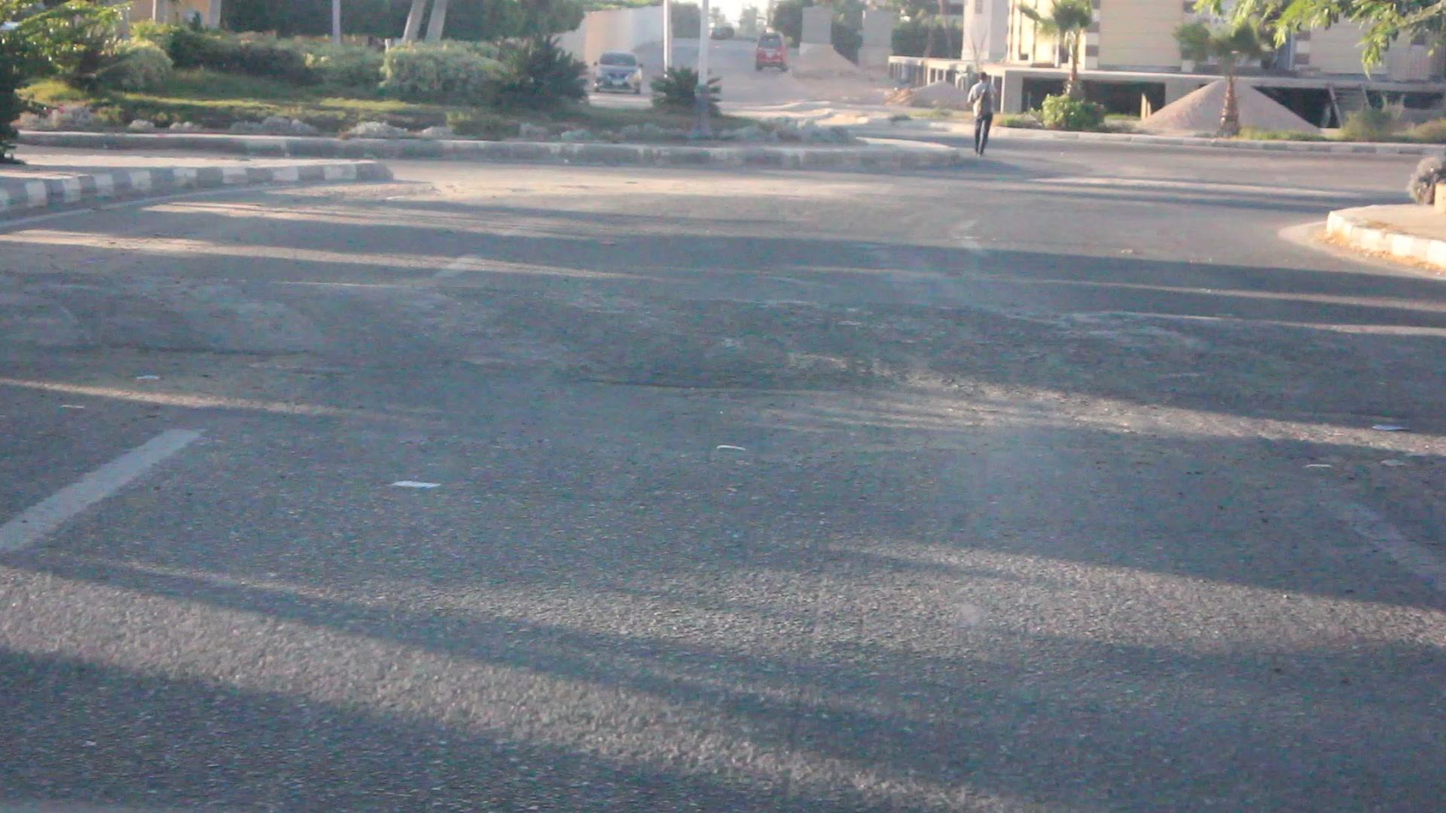Bump: (11, 263, 1446, 418)
